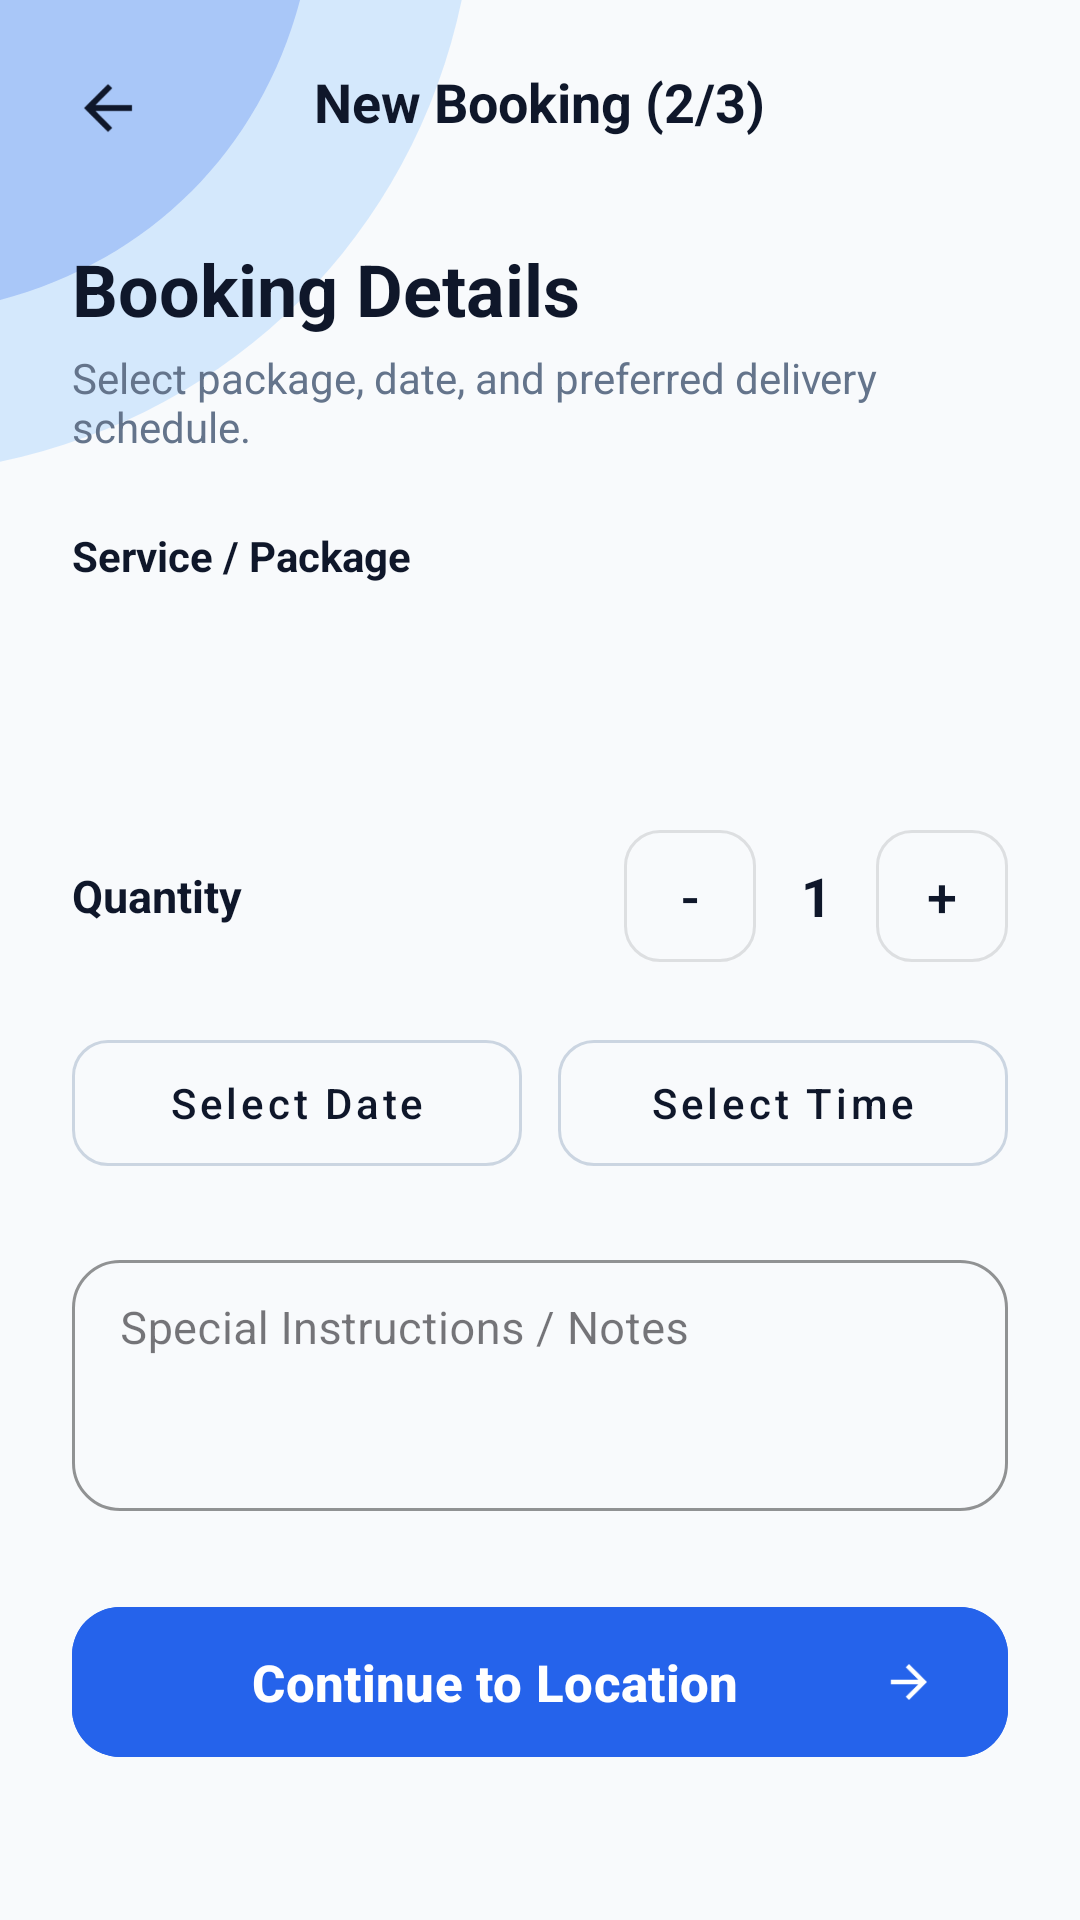

Icons on this 1080px×1920px Android screen, each with its box as (x1, y1, x2, y2):
Back Button: (84, 84, 132, 132)
